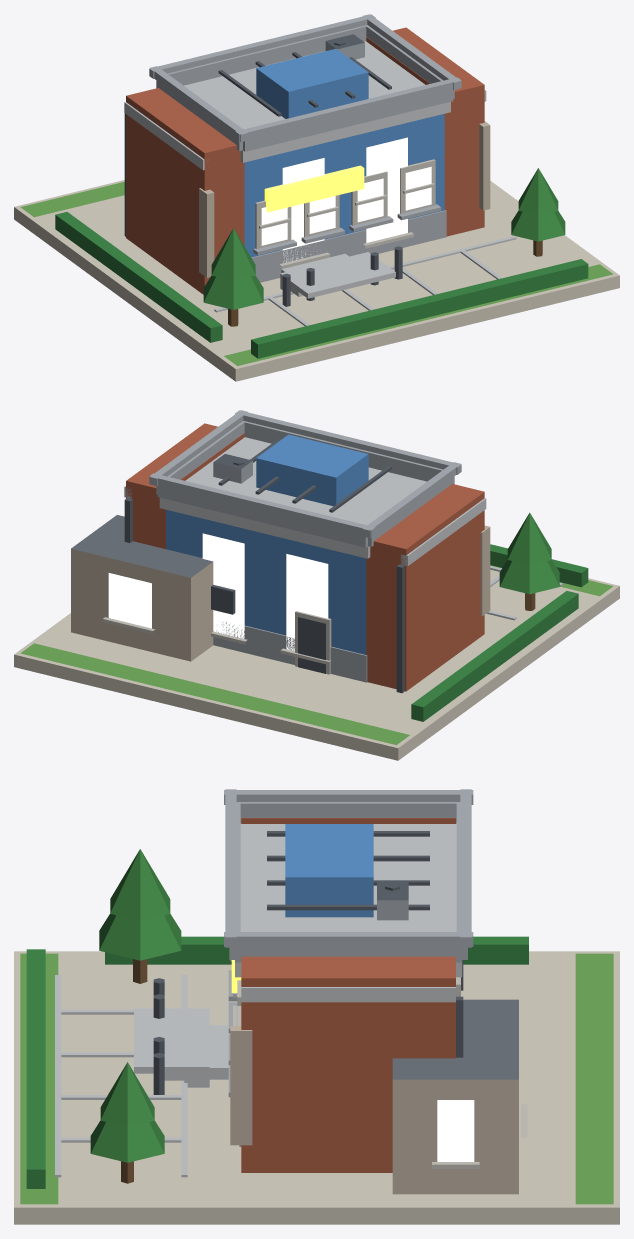
3 renders of one model, top to bottom at view 1: azimuth 30°, elevation 25°; view 2: azimuth 150°, elevation 25°; view 3: azimuth 270°, elevation 25°, orthographic. The views are drawn at different scales.
Visible parts, largest first — view 1: b22; view 2: b22; view 3: b22.
Boxes of the visible parts, box(x1,y1,x2,y2) form: b22: box(14, 14, 619, 381); b22: box(14, 410, 619, 760); b22: box(14, 789, 619, 1224).
Bounding box in the file's own units: 0.96 × 0.43 × 0.96.
